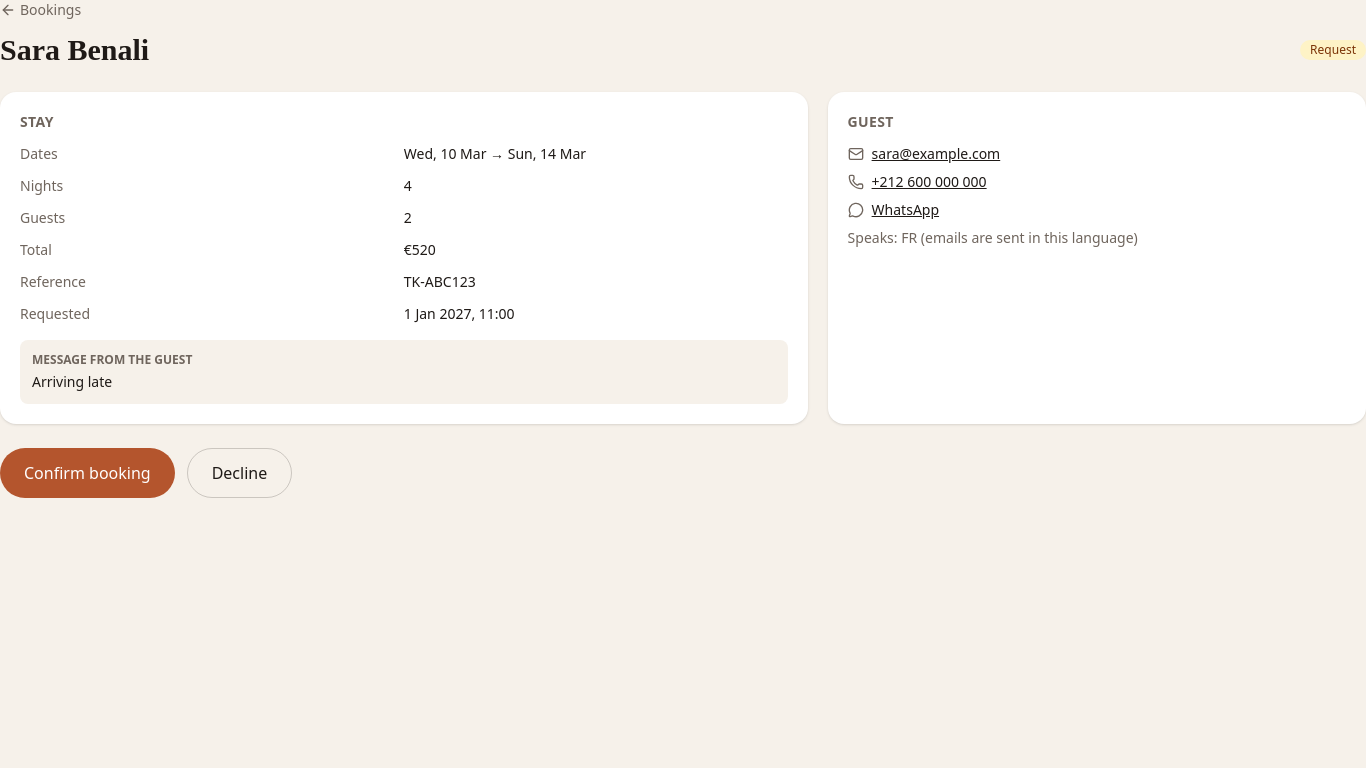
Test: BookingDetailView › confirms after the owner agrees in the dialog
This screenshot has width=1366, height=768.
Click the button "Confirm booking" at (87,473), box [0,448,175,498]
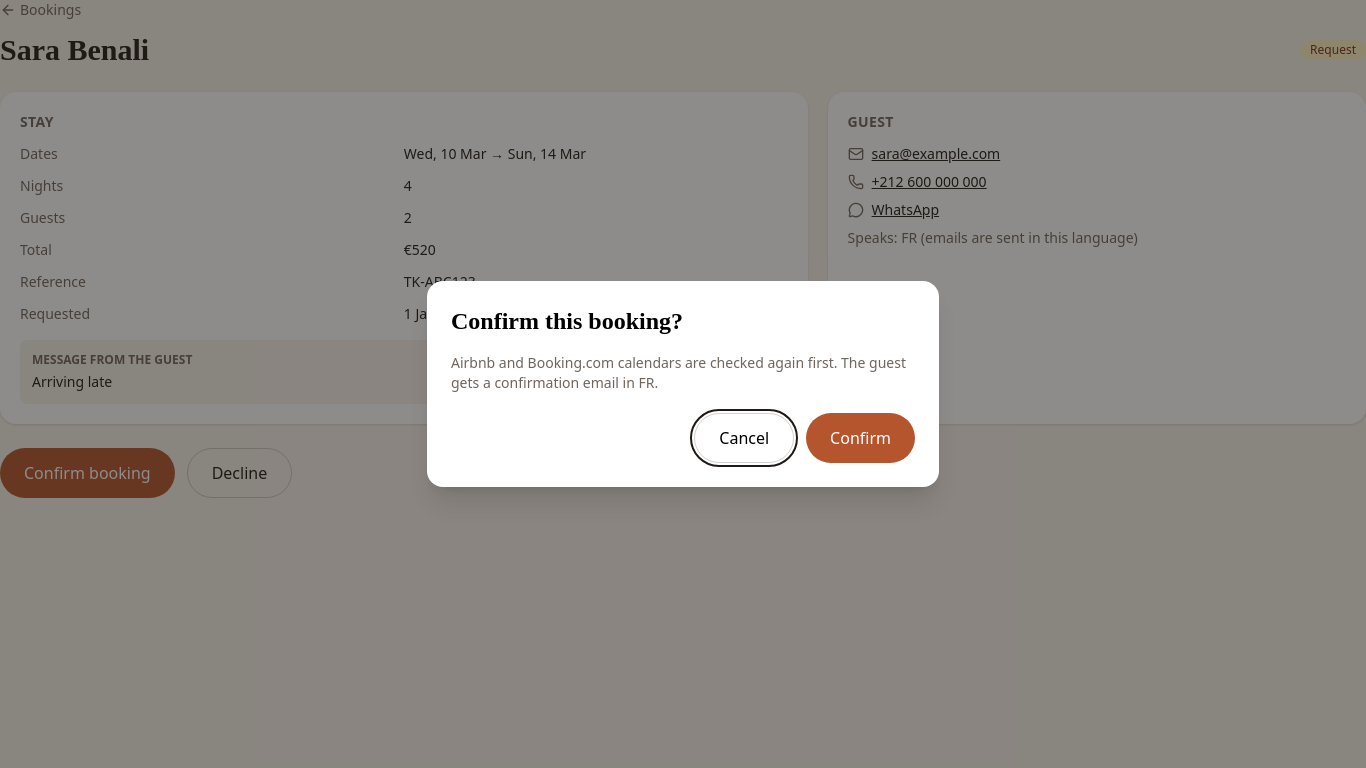
Click the button "Confirm" at (861,438), box [806,413,915,463]
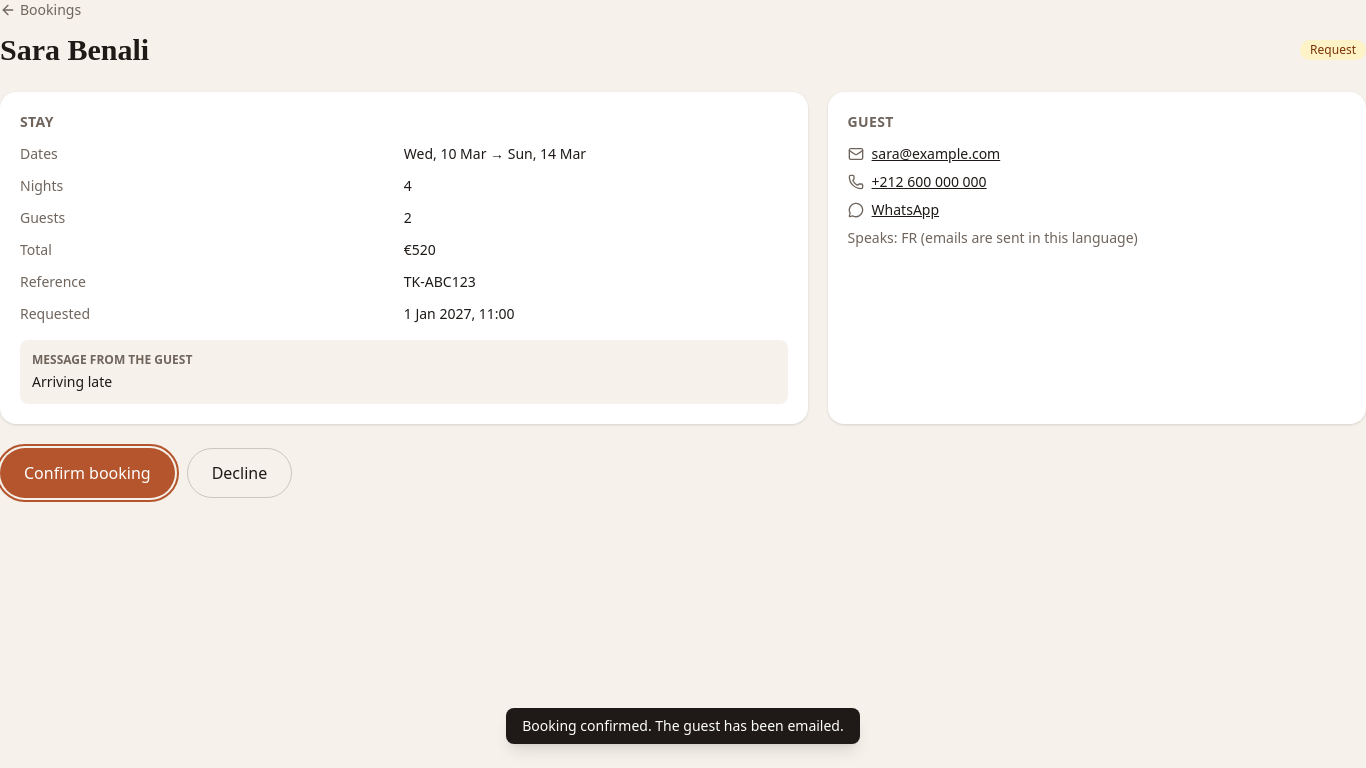
Check: the text "Booking confirmed. The guest has been emailed." is shown, box [506,708,860,744]
